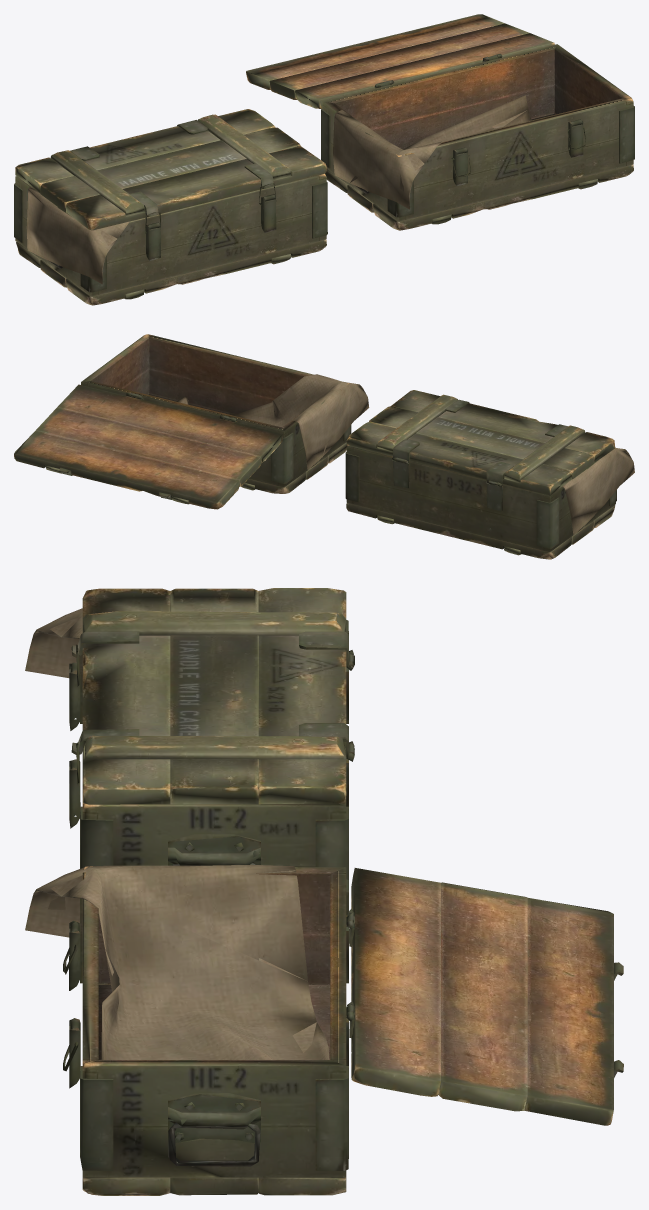
File: ph_old_military_crate.glb
The picture shows the model from 3 angles, top to bottom: view 1: azimuth 30°, elevation 25°; view 2: azimuth 150°, elevation 25°; view 3: azimuth 270°, elevation 25°; orthographic projection. The views are drawn at different scales.
Visible parts, largest first — view 1: old_military_crate_lid_a; view 2: old_military_crate_lid_a; view 3: old_military_crate_lid_a.
Part boxes in pixels (<box>): old_military_crate_lid_a: <box>14,14,634,305</box>; old_military_crate_lid_a: <box>14,334,634,559</box>; old_military_crate_lid_a: <box>25,588,623,1195</box>.
Bounding box in the file's own units: 1.81 × 0.3009 × 0.9758.
Materials: 1 (1 with a texture image).
